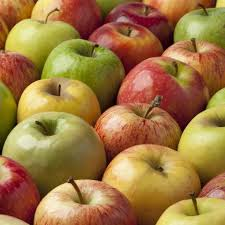apple: (3, 119, 106, 187), (107, 145, 205, 215), (128, 59, 206, 128), (95, 101, 186, 157), (47, 40, 124, 100), (20, 80, 102, 132), (38, 180, 132, 225), (5, 19, 81, 65), (89, 22, 163, 68), (29, 1, 99, 46), (165, 41, 222, 92), (107, 2, 173, 46), (175, 10, 225, 49)
